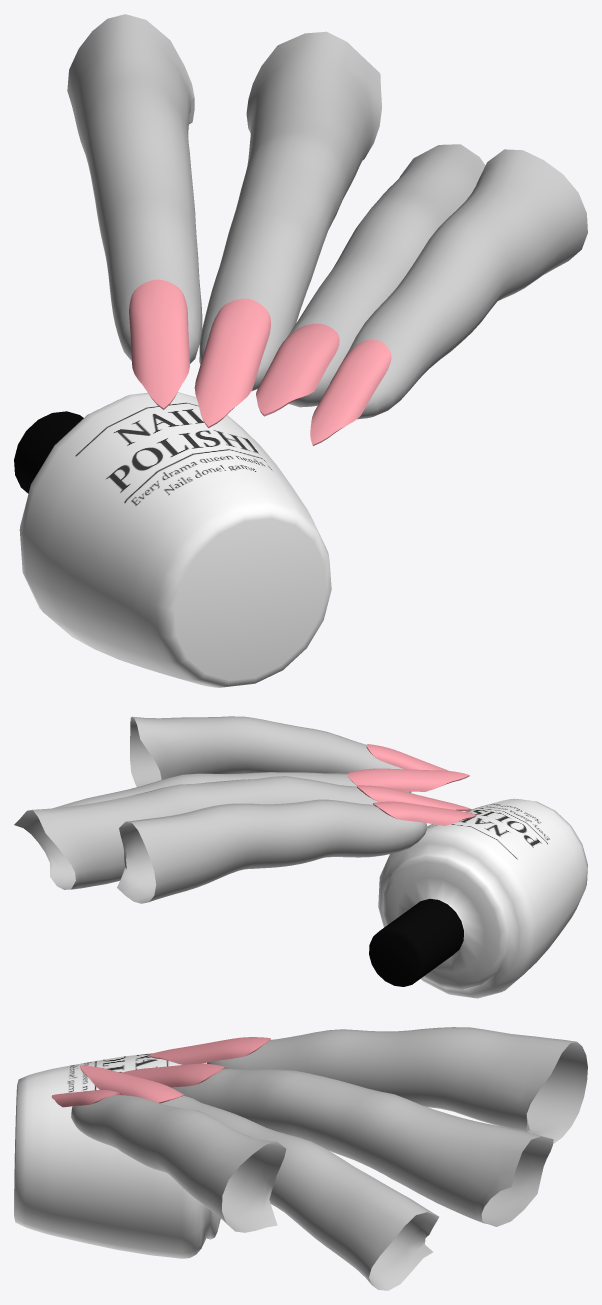
Rendered from 拿指甲油_06_10.FBX.
The picture shows the model from 3 angles, top to bottom: view 1: azimuth 30°, elevation 25°; view 2: azimuth 150°, elevation 25°; view 3: azimuth 270°, elevation 25°; orthographic projection. The views are drawn at different scales.
Visible parts, largest first — view 1: 对象001, 对象009, 对象010, 对象007, 对象008, 11, 22, 33, 44, Cylinder001; view 2: 对象001, 对象010, 对象009, 对象007, Cylinder001, 对象008, 33, 22, 11, 44; view 3: 对象009, 对象010, 对象001, 对象008, 对象007, 22, 33, 11, 44.
Part boxes in pixels (x1,y1,x2,y2): 对象001: [19, 392, 331, 687]; 对象009: [199, 31, 381, 390]; 对象010: [67, 14, 202, 363]; 对象007: [330, 149, 587, 419]; 对象008: [286, 144, 485, 407]; 11: [194, 298, 270, 427]; 22: [129, 279, 189, 409]; 33: [256, 323, 339, 416]; 44: [310, 339, 391, 445]; Cylinder001: [14, 411, 83, 493]; 对象001: [378, 798, 587, 998]; 对象010: [117, 799, 426, 903]; 对象009: [14, 776, 379, 889]; 对象007: [130, 716, 403, 786]; Cylinder001: [369, 898, 463, 986]; 对象008: [53, 772, 411, 808]; 33: [348, 768, 469, 791]; 22: [373, 801, 476, 825]; 11: [357, 785, 471, 810]; 44: [366, 744, 447, 770]; 对象009: [171, 1069, 553, 1226]; 对象010: [207, 1027, 587, 1143]; 对象001: [14, 1053, 220, 1258]; 对象008: [160, 1095, 438, 1290]; 对象007: [71, 1095, 286, 1232]; 22: [148, 1037, 270, 1064]; 33: [80, 1065, 183, 1103]; 11: [121, 1063, 225, 1087]; 44: [51, 1090, 120, 1107].
Bounding box in the file's own units: 4886 × 2968 × 5264.
